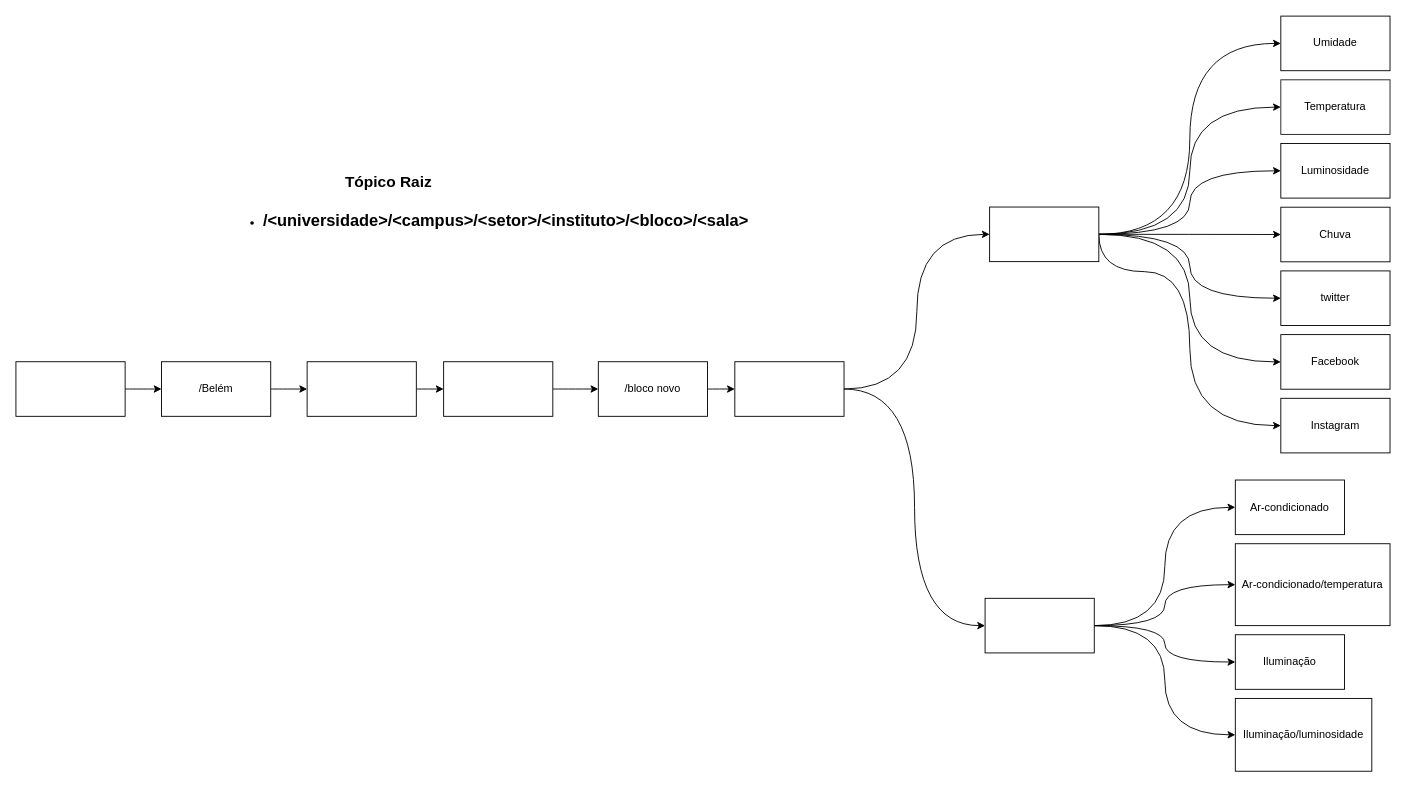
The diagram is 1406 pixels wide and 787 high, and some of its shapes have lost their labels. Each missing label, with the box of its shape:
/A2: (734, 361, 844, 416)
/Itec: (443, 361, 553, 416)
/Profissional: (306, 361, 416, 416)
/UFPA: (15, 361, 125, 416)
Comunicação: (989, 206, 1099, 262)
Controle: (984, 597, 1094, 653)
